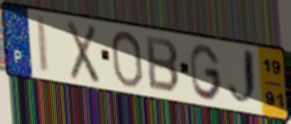B: (144, 34, 182, 96)
G: (188, 42, 224, 102)
I: (35, 14, 51, 77)
J: (226, 46, 261, 110)
O: (109, 29, 145, 89)
X: (65, 18, 102, 86)
